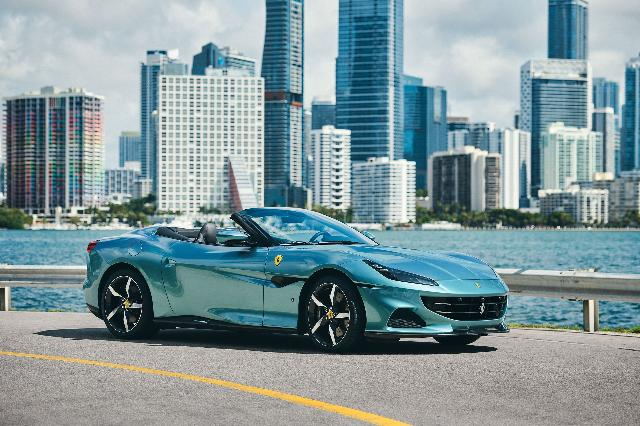ferrari: (82, 206, 510, 354)
